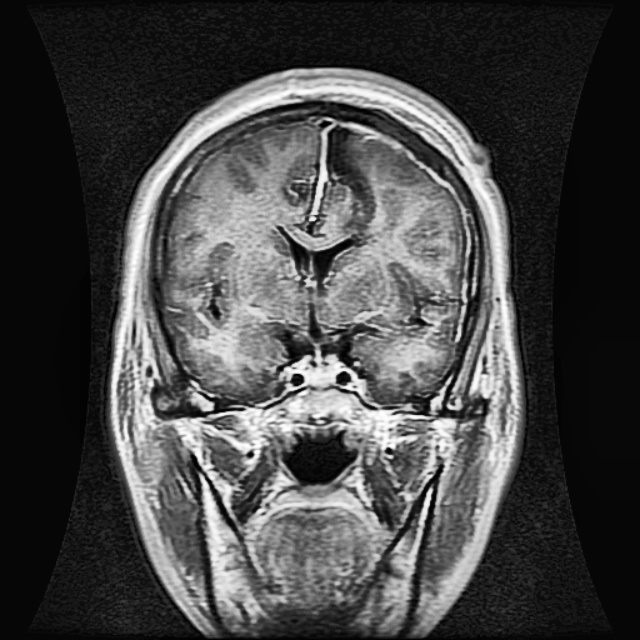Meningioma: (322, 125, 374, 218)
